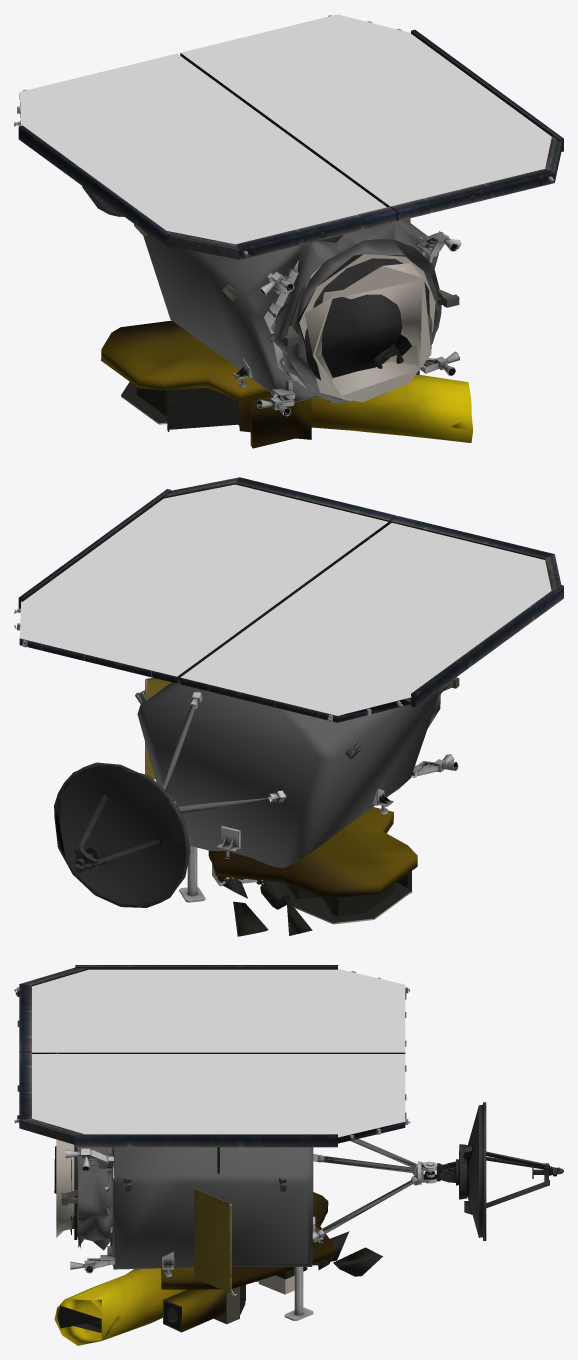
File: deepimpact.glb
3 views of the same model, one above another, from view 1: azimuth 30°, elevation 25°; view 2: azimuth 150°, elevation 25°; view 3: azimuth 270°, elevation 25° (orthographic). The views are drawn at different scales.
Parts seen in each view (by area): view 1: shiny_panels, tex_01, black_krinkle, foil_gold, foil_silver_I, hole_AO; view 2: shiny_panels, black_krinkle, tex_01, dish_AO, foil_gold, hole_AO; view 3: shiny_panels, black_krinkle, tex_01, foil_gold, dish_AO, hole_AO.
Part boxes in pixels (box(x1,y1,x2,y2)): shiny_panels: box(19, 14, 551, 244); tex_01: box(14, 15, 563, 431); black_krinkle: box(143, 219, 441, 403); foil_gold: box(101, 320, 472, 448); foil_silver_I: box(304, 258, 429, 380); hole_AO: box(232, 232, 461, 416); shiny_panels: box(19, 484, 551, 715); black_krinkle: box(137, 681, 440, 867); tex_01: box(14, 477, 563, 936); dish_AO: box(54, 762, 190, 907); foil_gold: box(208, 807, 417, 898); hole_AO: box(174, 691, 458, 902); shiny_panels: box(32, 969, 405, 1137); black_krinkle: box(76, 1139, 415, 1269); tex_01: box(14, 965, 449, 1332); foil_gold: box(54, 1192, 334, 1345); dish_AO: box(440, 1102, 563, 1240); hole_AO: box(65, 1148, 437, 1320).
Size of the model in its own units: 2.88 by 1.98 by 3.91.
Materials: 9 (6 with a texture image).
